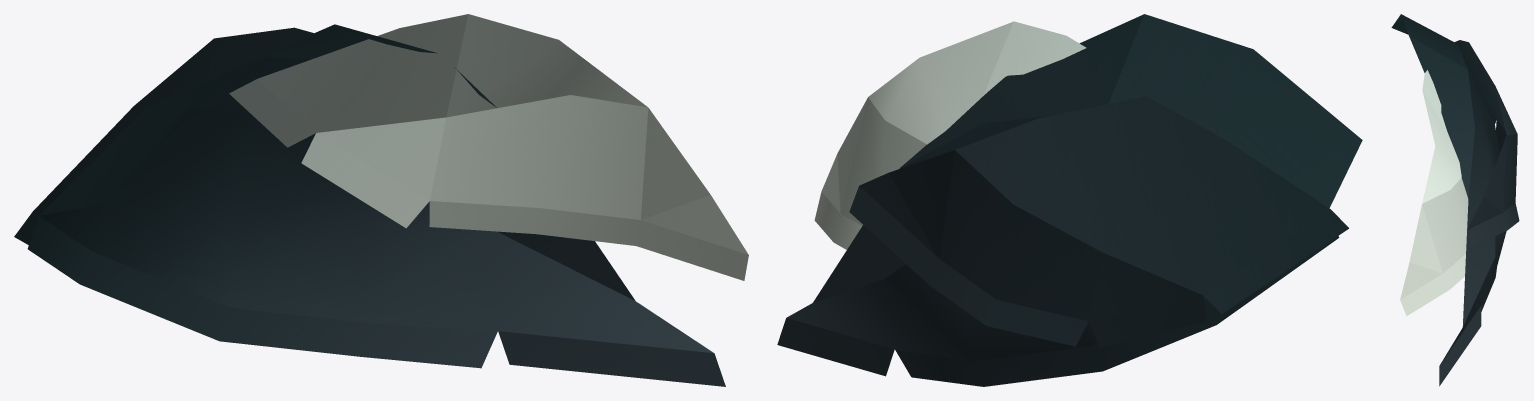
Rendered from Autruche_wingR.fbx.
The picture shows the model from 3 angles, left to right: view 1: azimuth 30°, elevation 25°; view 2: azimuth 150°, elevation 25°; view 3: azimuth 270°, elevation 25°; orthographic projection. The views are drawn at different scales.
Parts seen in each view (by area): view 1: Autruche_wingR; view 2: Autruche_wingR; view 3: Autruche_wingR.
Part boxes in pixels (x1,y1,x2,y2): Autruche_wingR: (14, 14, 748, 386); Autruche_wingR: (777, 14, 1362, 386); Autruche_wingR: (1391, 14, 1519, 386).
Bounding box in the file's own units: 78.88 × 51.93 × 24.42.
